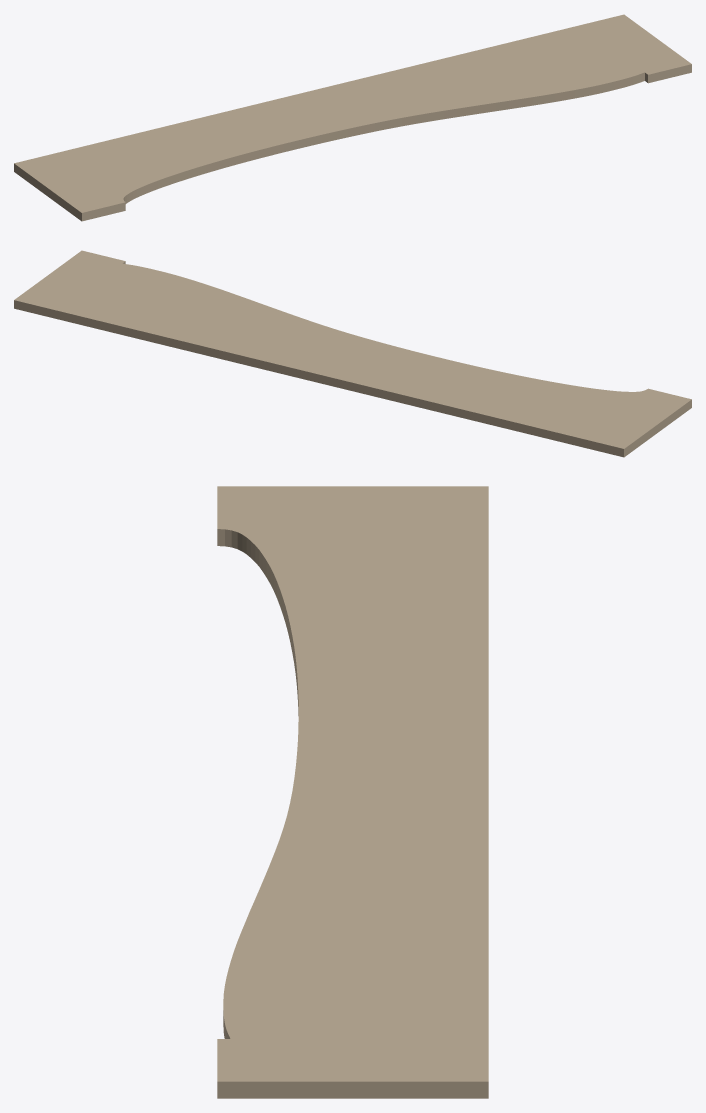
File: T-CRADLE-L.glb
3 views of the same model, one above another, from view 1: azimuth 30°, elevation 25°; view 2: azimuth 150°, elevation 25°; view 3: azimuth 270°, elevation 25° (orthographic). The views are drawn at different scales.
Visible parts, largest first — view 1: geometry_0; view 2: geometry_0; view 3: geometry_0.
Part boxes in pixels (x1,y1,x2,y2): geometry_0: [14, 14, 691, 221]; geometry_0: [14, 250, 691, 457]; geometry_0: [217, 486, 488, 1098].
Bounding box in the file's own units: 1350 × 18 × 260.
